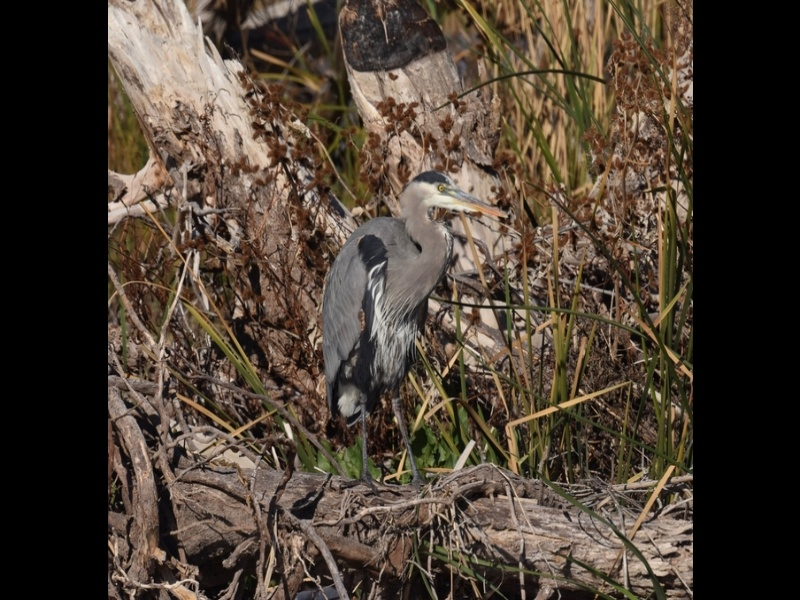heron: (319, 168, 510, 491)
